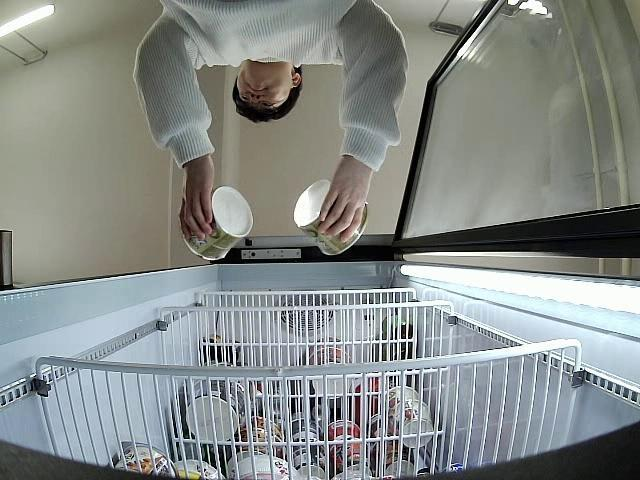03_chapagetti_L: (294, 179, 368, 255), (182, 187, 254, 259)
